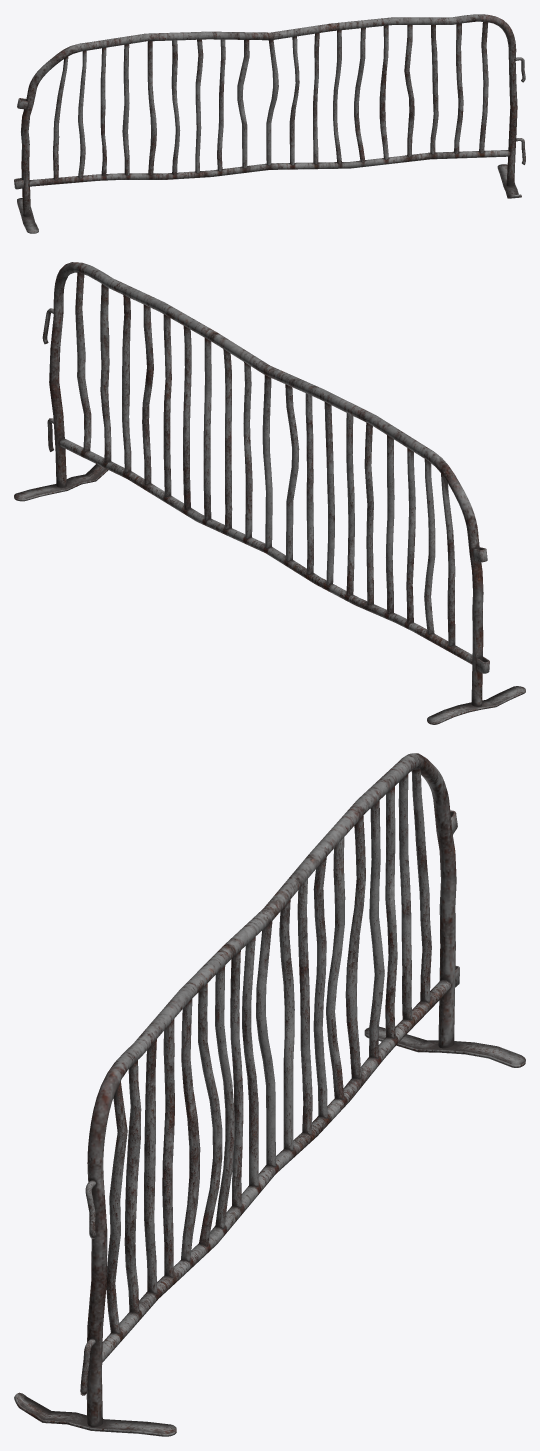
Rendered from street_metal_barrier_damaged2.fbx.
3 renders of one model, top to bottom at view 1: azimuth 30°, elevation 25°; view 2: azimuth 150°, elevation 25°; view 3: azimuth 270°, elevation 25°, orthographic. The views are drawn at different scales.
Parts seen in each view (by area): view 1: street_metal_barrier_damaged2; view 2: street_metal_barrier_damaged2; view 3: street_metal_barrier_damaged2.
Boxes of the visible parts, x1,y1,x2,y2 form: street_metal_barrier_damaged2: [14, 14, 525, 233]; street_metal_barrier_damaged2: [14, 262, 525, 724]; street_metal_barrier_damaged2: [14, 753, 525, 1436].
Bounding box in the file's own units: 6.16 × 2.43 × 3.26.
1 material, 1 textured.
